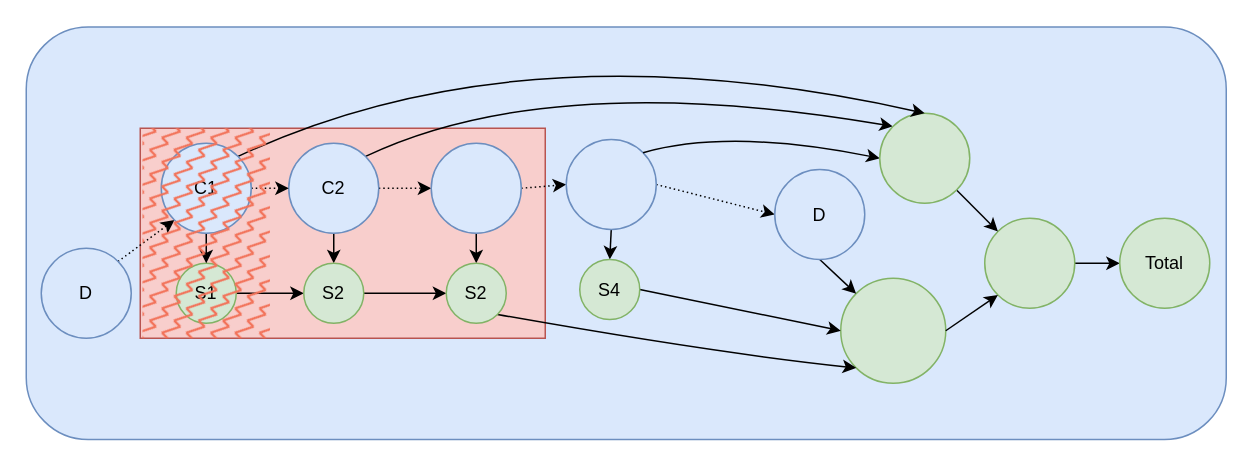
Image size: 1253x465. Some labels were removed from this diagram. Each missing label, with the box of its shape:
C3: (430, 142, 521, 233)
C4: (565, 138, 656, 230)
Pen 1: (878, 112, 970, 203)
SD1: (839, 277, 946, 383)
Subtotal1: (983, 217, 1075, 308)
